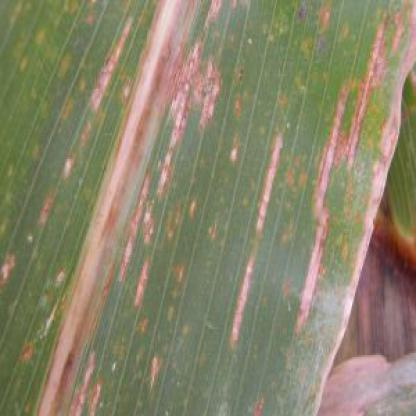corn gray leaf spot: (1, 4, 415, 414)
